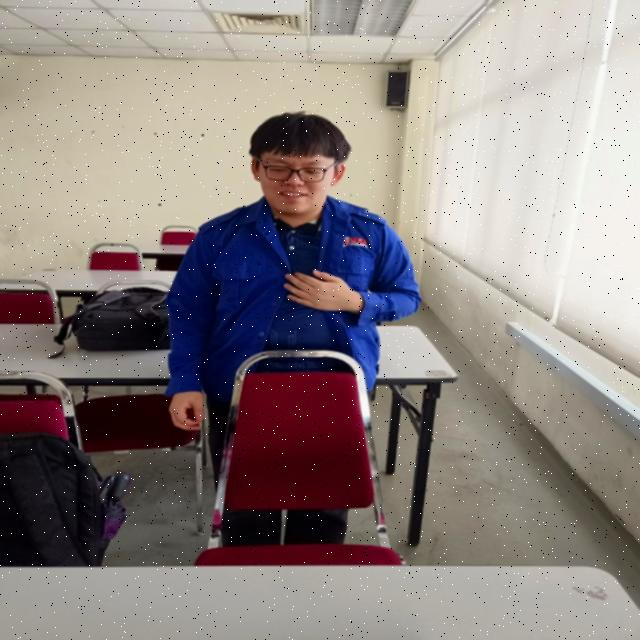person_with_labcoat: (167, 112, 420, 482)
